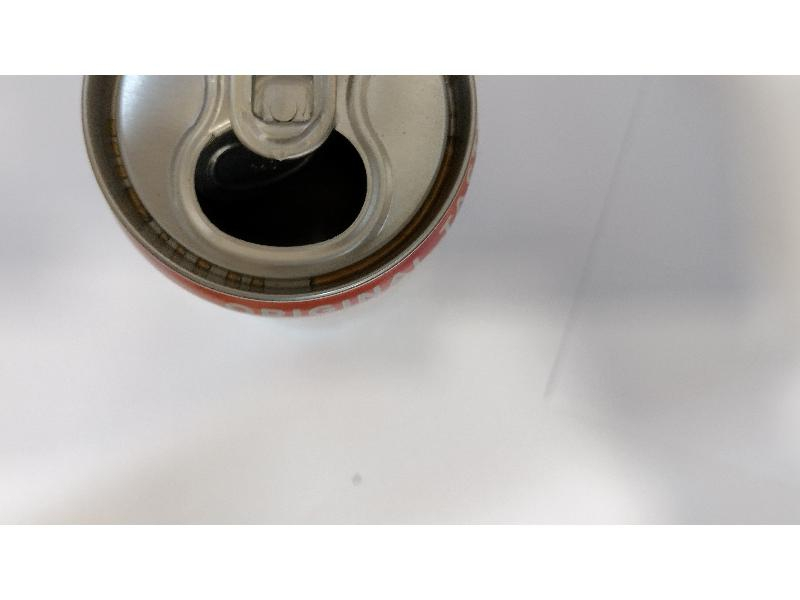can: (81, 75, 482, 322)
